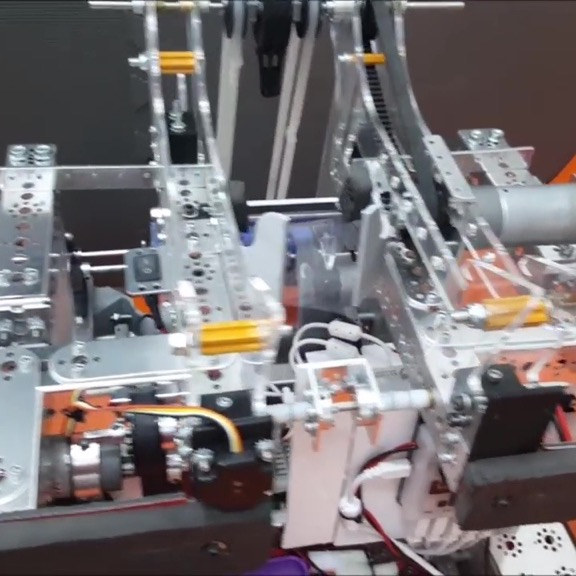robot: (1, 0, 576, 576)
